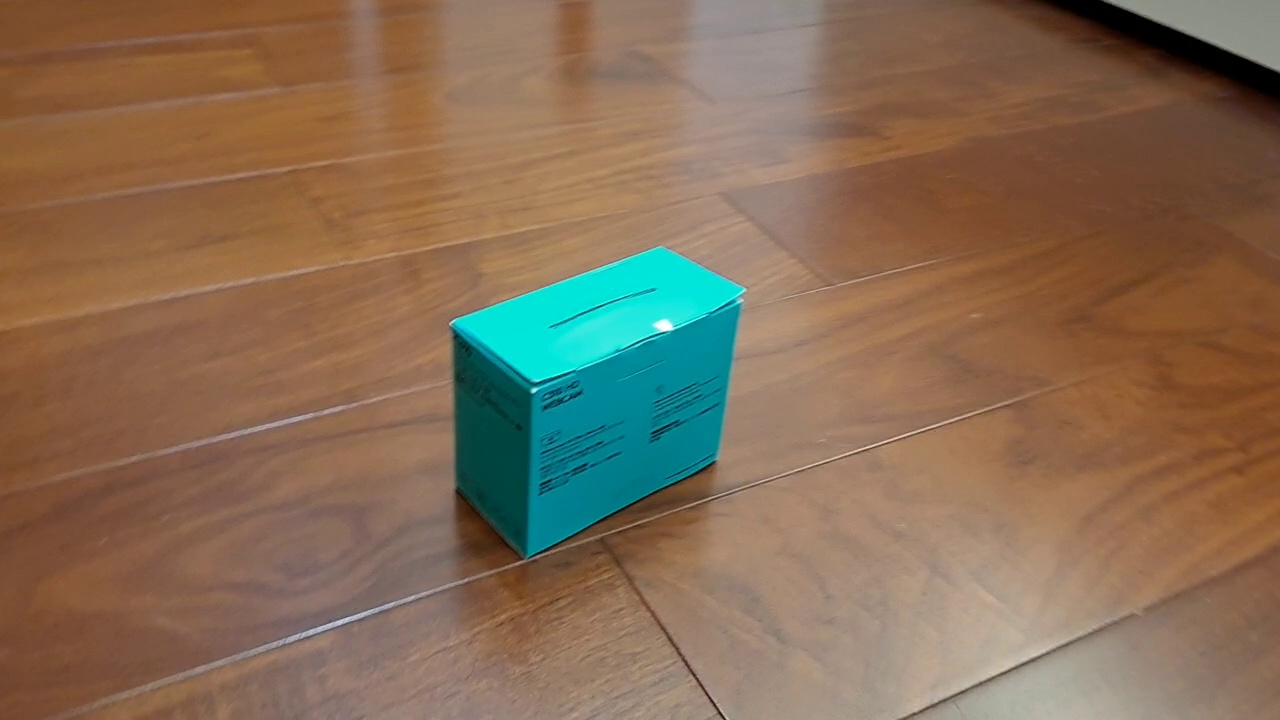webcam: (447, 244, 749, 562)
